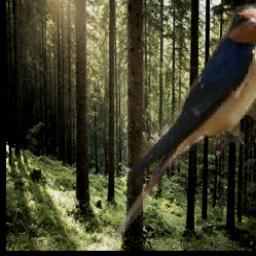Swallow: (107, 4, 256, 248)
